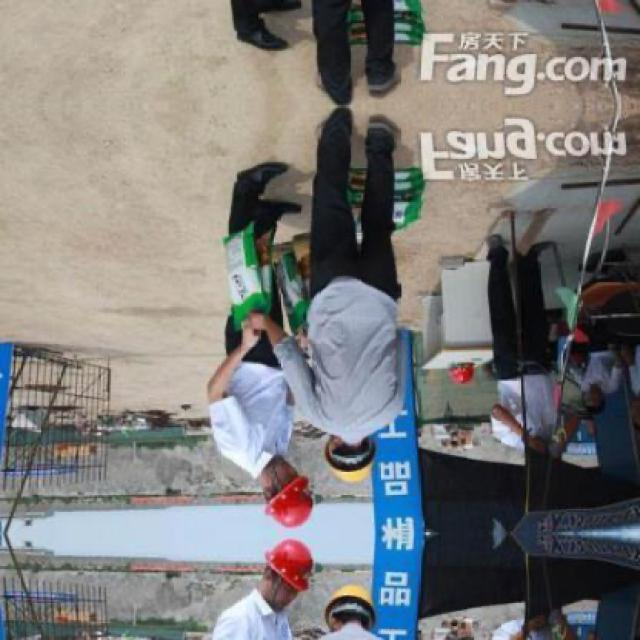con casco: (249, 474, 334, 516), (324, 436, 378, 484)
